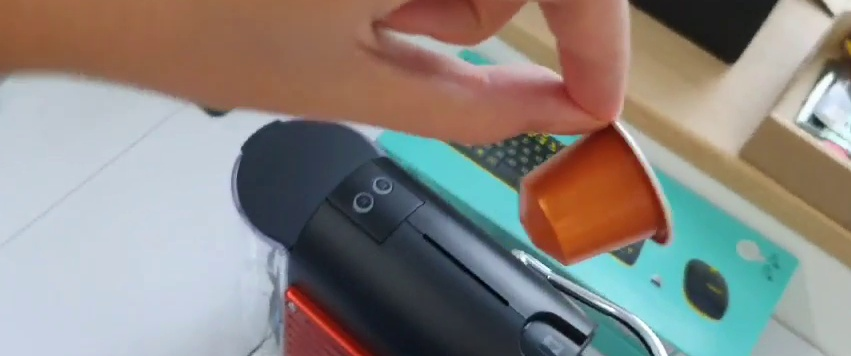capsule_5: (516, 114, 672, 267)
